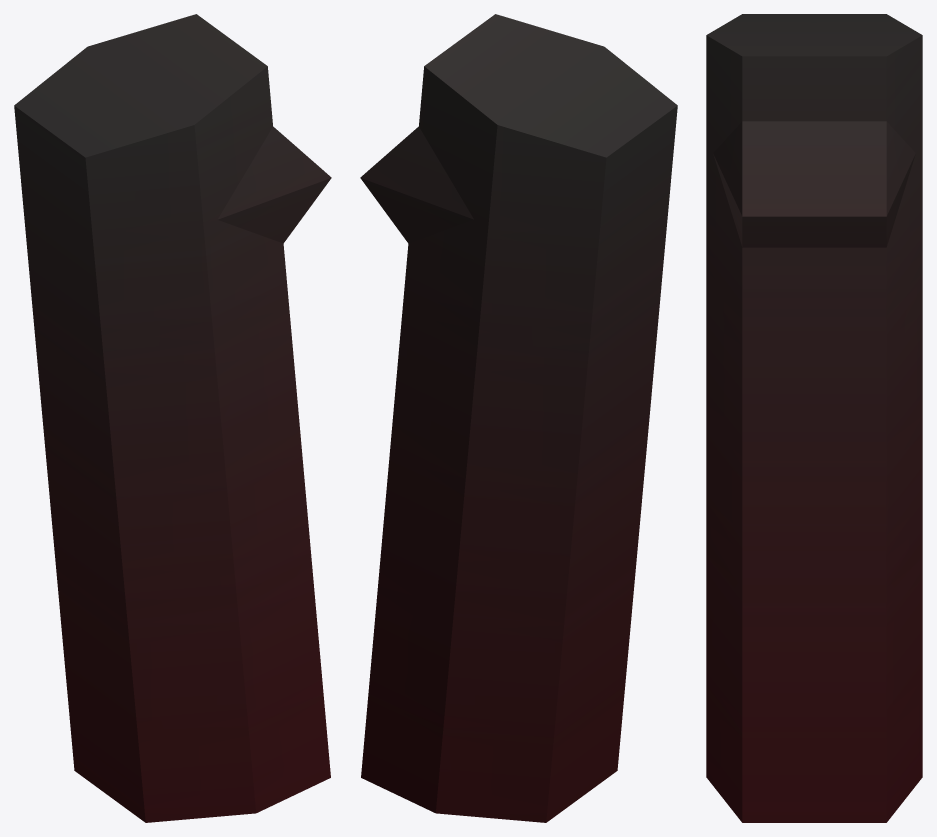
Rendered from SM_Arch_Small_03.fbx.
3 views of the same model, side by side, from view 1: azimuth 30°, elevation 25°; view 2: azimuth 150°, elevation 25°; view 3: azimuth 270°, elevation 25° (orthographic).
Parts seen in each view (by area): view 1: SM_Arch_Small_03; view 2: SM_Arch_Small_03; view 3: SM_Arch_Small_03.
Part boxes in pixels (x1,y1,x2,y2): SM_Arch_Small_03: (14,14,331,822); SM_Arch_Small_03: (360,14,677,822); SM_Arch_Small_03: (706,14,922,822).
Bounding box in the file's own units: 99.73 × 281 × 75.
1 material, 1 textured.
